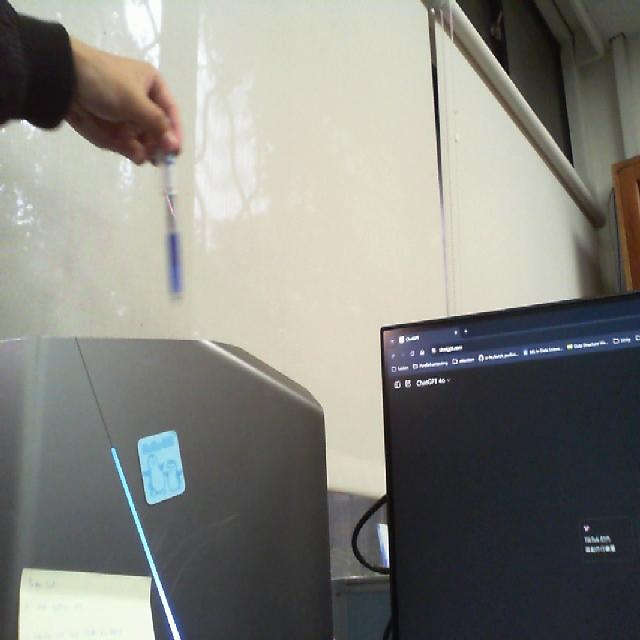Pen: (152, 123, 200, 321)
